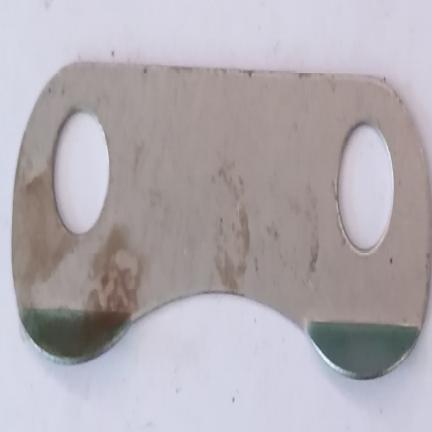besi_tidak_karat: (11, 63, 431, 378)
